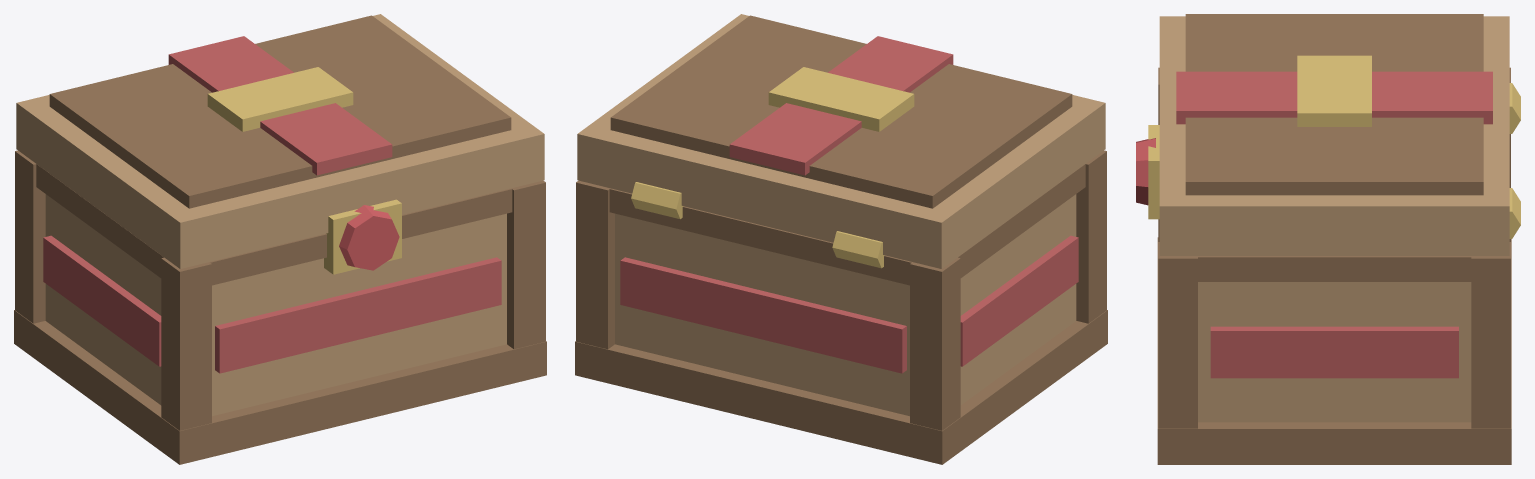
3 views of the same model, side by side, from view 1: azimuth 30°, elevation 25°; view 2: azimuth 150°, elevation 25°; view 3: azimuth 270°, elevation 25° (orthographic). The views are drawn at different scales.
Visible parts, largest first — view 1: BoxBody, LidPivot, SealPart; view 2: BoxBody, LidPivot; view 3: LidPivot, BoxBody, SealPart.
Part boxes in pixels (left/top/right/bottom): BoxBody: left=14, top=150, right=546, bottom=464; LidPivot: left=16, top=14, right=544, bottom=268; SealPart: left=324, top=199, right=401, bottom=274; BoxBody: left=575, top=150, right=1107, bottom=464; LidPivot: left=577, top=14, right=1105, bottom=268; LidPivot: left=1159, top=14, right=1509, bottom=255; BoxBody: left=1157, top=67, right=1520, bottom=464; SealPart: left=1136, top=125, right=1159, bottom=219.
Size of the model in its own units: 0.365 by 0.253 by 0.31.
